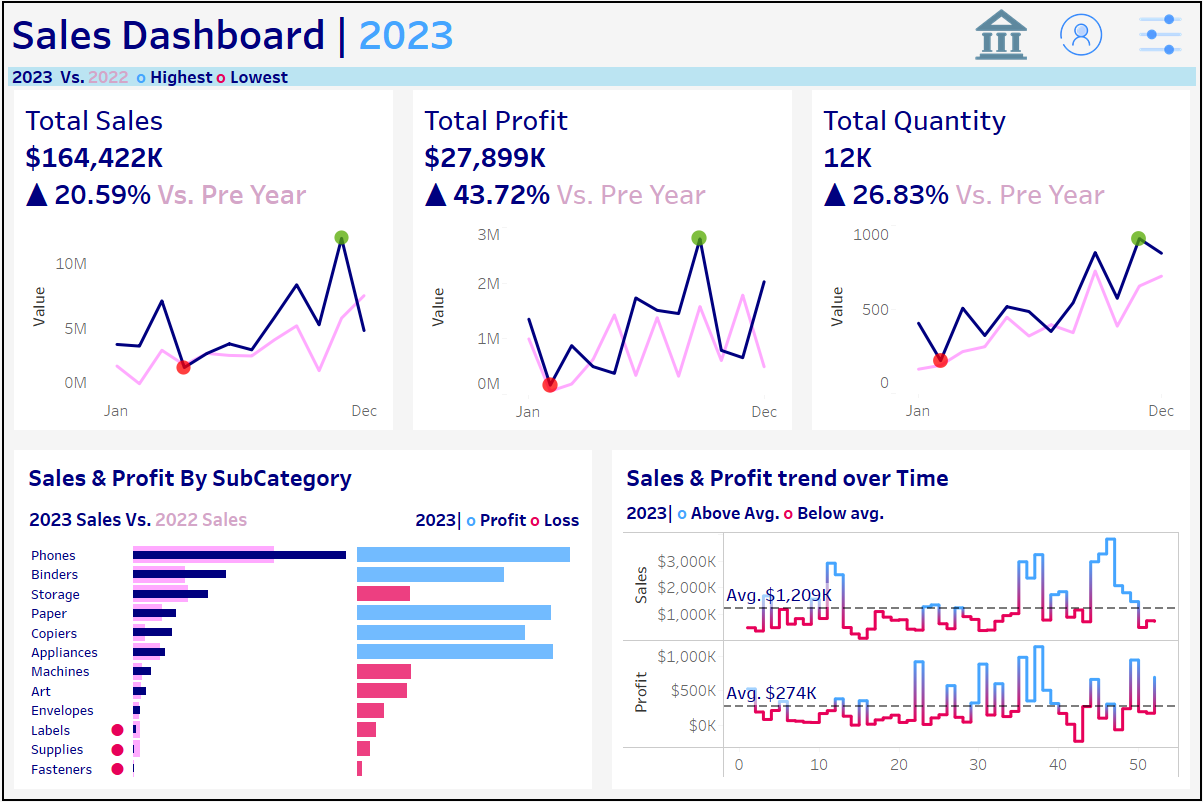

The page's visual inventory and layout, read from the dashboard file:
{"tool":"tableau","page":{"name":"Sales Dashboard","canvas":[1200,800],"ordinal":1},"visuals":[{"type":"text","box":[2,2,1196,60]},{"type":"dashboard-object","box":[959,3,80,60]},{"type":"dashboard-object","box":[1039,3,80,60]},{"type":"dashboard-object","box":[1119,3,79,60]},{"type":"blank","box":[977,12,210,69]},{"type":"worksheet","title":"Legend Kpi","mark":"Automatic","box":[2,62,1196,27]},{"type":"text","box":[977,81,210,40]},{"type":"worksheet","title":"KPI Sales","mark":"Automatic","rows":["Calculation_1277051972293742596"],"cols":["Order Date"],"box":[2,89,399,350]},{"type":"worksheet","title":"KPI Profit","mark":"Automatic","rows":["Calculation_474848291014877191"],"cols":["Order Date"],"box":[401,89,399,350]},{"type":"worksheet","title":"KPI Quantity","mark":"Automatic","rows":["Calculation_474848291017637896"],"cols":["Order Date"],"box":[800,89,398,350]},{"type":"parameter","param":"[Parameters].[Parameter 1]","box":[977,121,210,56]},{"type":"text","box":[977,177,210,36]},{"type":"filter","title":"KPI Sales","param":"[federated.0e05pr401x41y715u6nhp13y2g21].[none:Category:nk]","box":[977,213,210,61]},{"type":"filter","title":"KPI Sales","param":"[federated.0e05pr401x41y715u6nhp13y2g21].[none:Sub-Category:nk]","box":[977,274,210,61]},{"type":"blank","box":[977,335,210,62]},{"type":"text","box":[977,397,210,36]},{"type":"filter","title":"KPI Sales","param":"[federated.0e05pr401x41y715u6nhp13y2g21].[none:Region:nk]","box":[977,433,210,61]},{"type":"text","box":[19,456,564,40]},{"type":"text","box":[617,456,564,40]},{"type":"filter","title":"KPI Sales","param":"[federated.0e05pr401x41y715u6nhp13y2g21].[none:State:nk]","box":[977,494,210,61]},{"type":"worksheet","title":"Legend SubCategory","mark":"Automatic","box":[19,496,387,44]},{"type":"text","box":[406,496,177,44]},{"type":"text","box":[617,496,564,31]},{"type":"worksheet","title":"Weekly trend","mark":"Automatic","rows":["Calculation_1277051972270526464","Calculation_474848290988916736"],"cols":["Order Date"],"box":[617,527,564,254]},{"type":"worksheet","title":"SubCategory Comparison","mark":"Bar","rows":["Sub-Category","Calculation_1065664267401064448"],"cols":["CurrYear sales (copy)_1277051972279844865","Calculation_1277051972270526464","Calculation_474848290988916736"],"box":[19,540,564,241]},{"type":"filter","title":"KPI Sales","param":"[federated.0e05pr401x41y715u6nhp13y2g21].[none:City:nk]","box":[977,555,210,61]}]}

Visuals, with their boxes in screenshot pixels (x1, y1, x2, y2), scaled from the page's 1200x800 canvas onto the 1203x802 screenshot:
text: x1=2 y1=2 x2=1201 y2=62
dashboard-object: x1=961 y1=3 x2=1042 y2=63
dashboard-object: x1=1042 y1=3 x2=1122 y2=63
dashboard-object: x1=1122 y1=3 x2=1201 y2=63
blank: x1=979 y1=12 x2=1190 y2=81
"Legend Kpi" worksheet: x1=2 y1=62 x2=1201 y2=89
text: x1=979 y1=81 x2=1190 y2=121
"KPI Sales" worksheet: x1=2 y1=89 x2=402 y2=440
"KPI Profit" worksheet: x1=402 y1=89 x2=802 y2=440
"KPI Quantity" worksheet: x1=802 y1=89 x2=1201 y2=440
parameter: x1=979 y1=121 x2=1190 y2=177
text: x1=979 y1=177 x2=1190 y2=214
"KPI Sales" filter: x1=979 y1=214 x2=1190 y2=275
"KPI Sales" filter: x1=979 y1=275 x2=1190 y2=336
blank: x1=979 y1=336 x2=1190 y2=398
text: x1=979 y1=398 x2=1190 y2=434
"KPI Sales" filter: x1=979 y1=434 x2=1190 y2=495
text: x1=19 y1=457 x2=584 y2=497
text: x1=619 y1=457 x2=1184 y2=497
"KPI Sales" filter: x1=979 y1=495 x2=1190 y2=556
"Legend SubCategory" worksheet: x1=19 y1=497 x2=407 y2=541
text: x1=407 y1=497 x2=584 y2=541
text: x1=619 y1=497 x2=1184 y2=528
"Weekly trend" worksheet: x1=619 y1=528 x2=1184 y2=783
"SubCategory Comparison" worksheet (Bar marks): x1=19 y1=541 x2=584 y2=783
"KPI Sales" filter: x1=979 y1=556 x2=1190 y2=618
